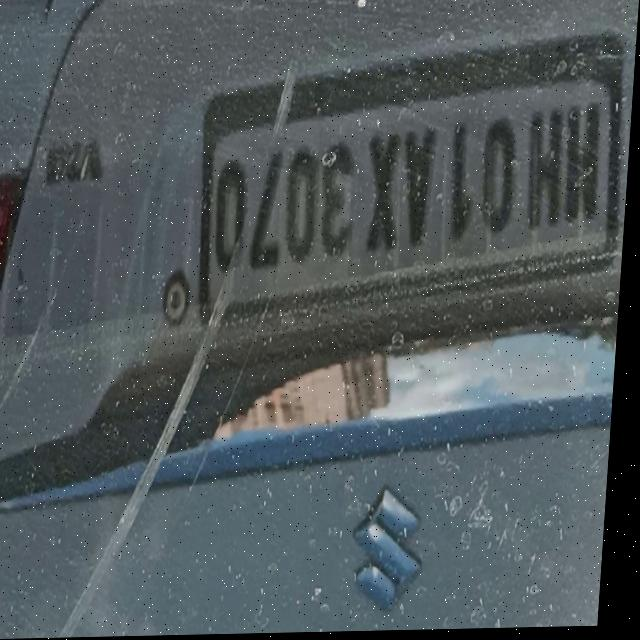plate: (197, 41, 630, 331)
